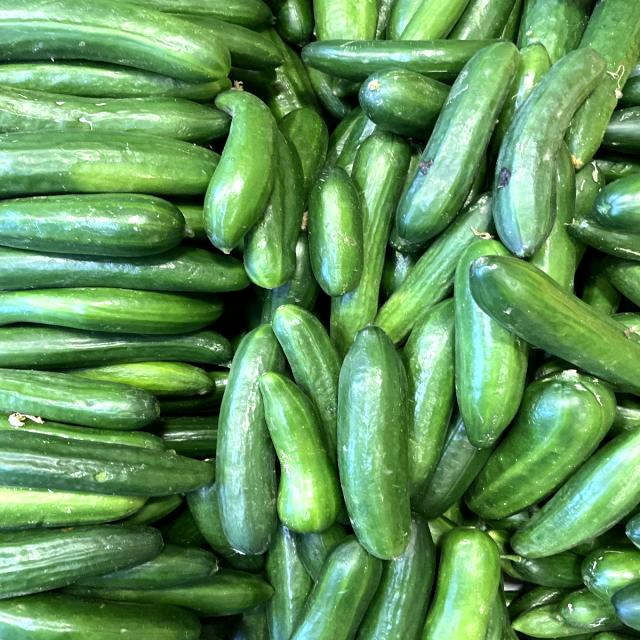cucumber: (463, 35, 624, 260), (380, 24, 536, 247), (330, 318, 430, 569), (185, 68, 299, 262), (237, 361, 348, 542)
